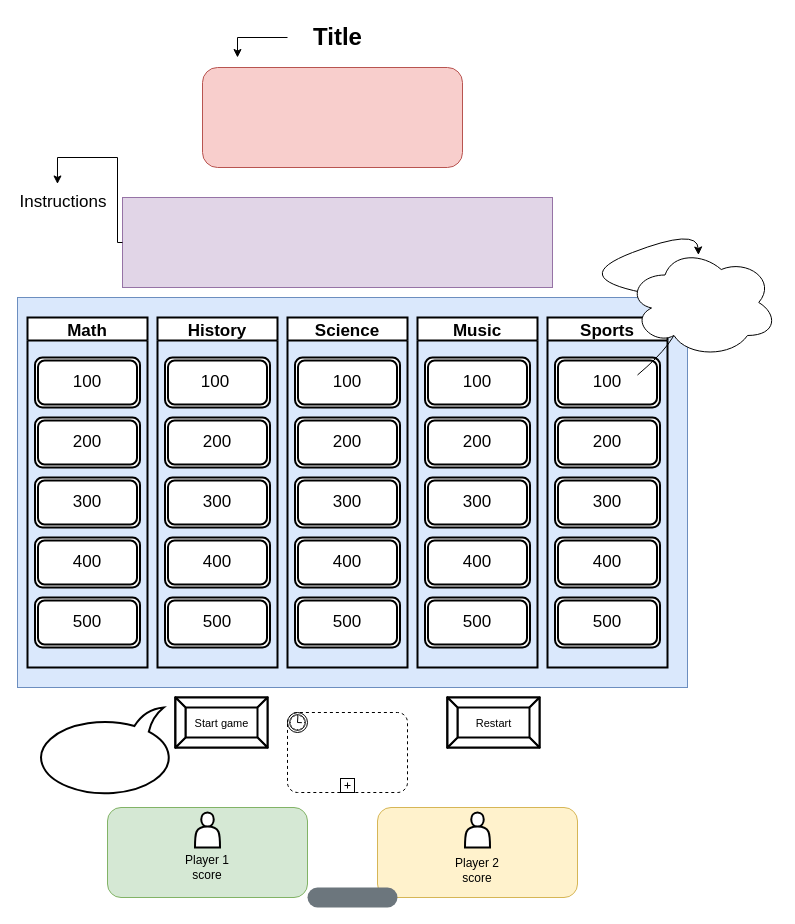
Some shapes in this 795 by 924 pixel diagram are drawn without their labels. The centre of each missing label's shape, as x and y in pixels:
Clickable and hover effect: the point at 702,302
Prompt Player 1 OR 2 will start !: the point at 104,752
Secondary: the point at 352,897
timer will be 20 sec for each question: the point at 347,752
Welcome to Jeopardy: the point at 332,117
